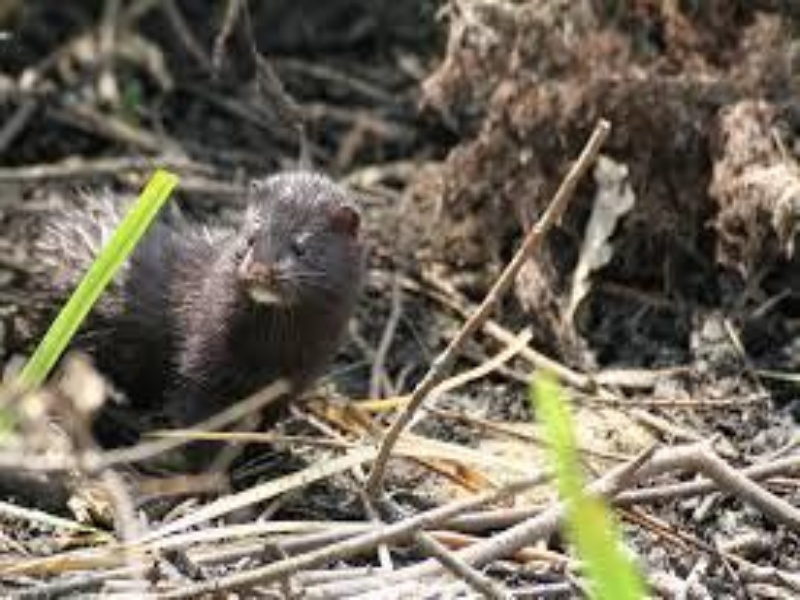minkish: (21, 169, 366, 434)
